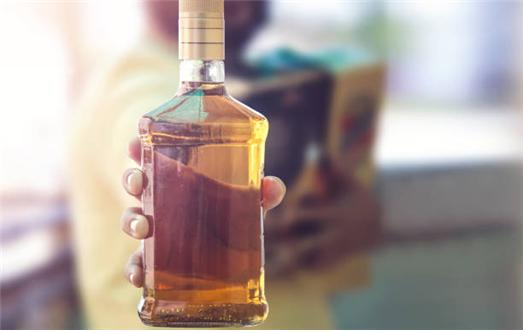alcohol: (138, 0, 270, 326)
